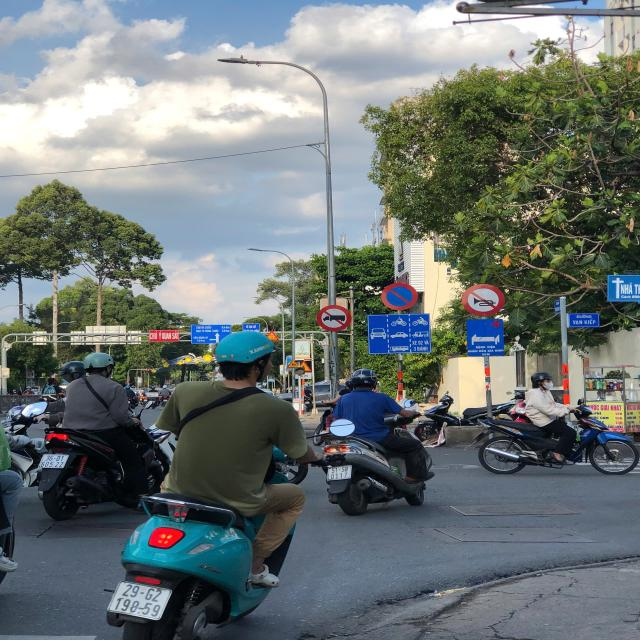Bien bao cam do xe: (380, 279, 422, 313)
Bien bao cam xe so-mi ro-mooc: (314, 303, 355, 334)
